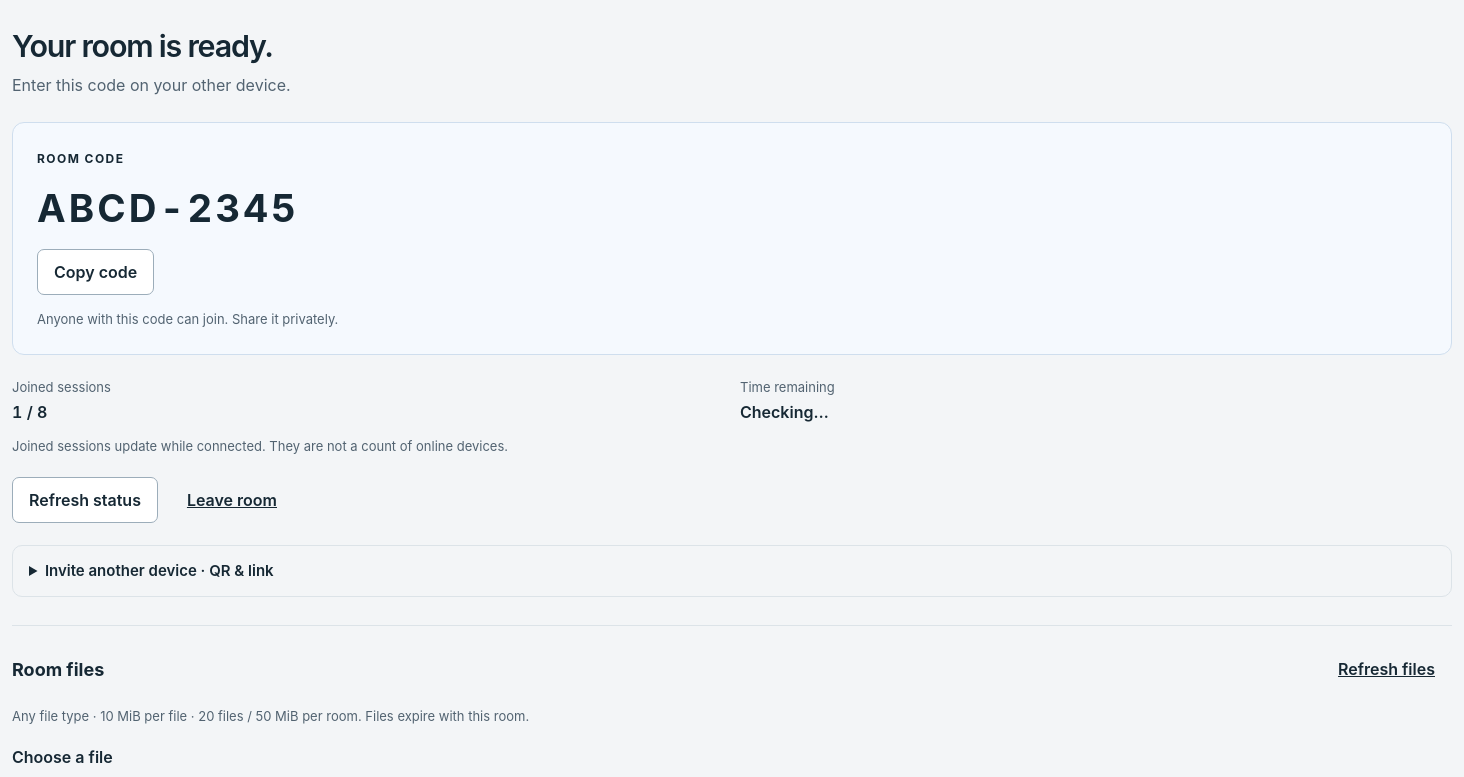
Scenario: restore checks membership under StrictMode; leave clears storage
Expected: the text "1 / 8" is shown, [12, 402, 47, 422]
Click the button "Leave room". click: click(232, 500)
box: [170, 477, 294, 523]
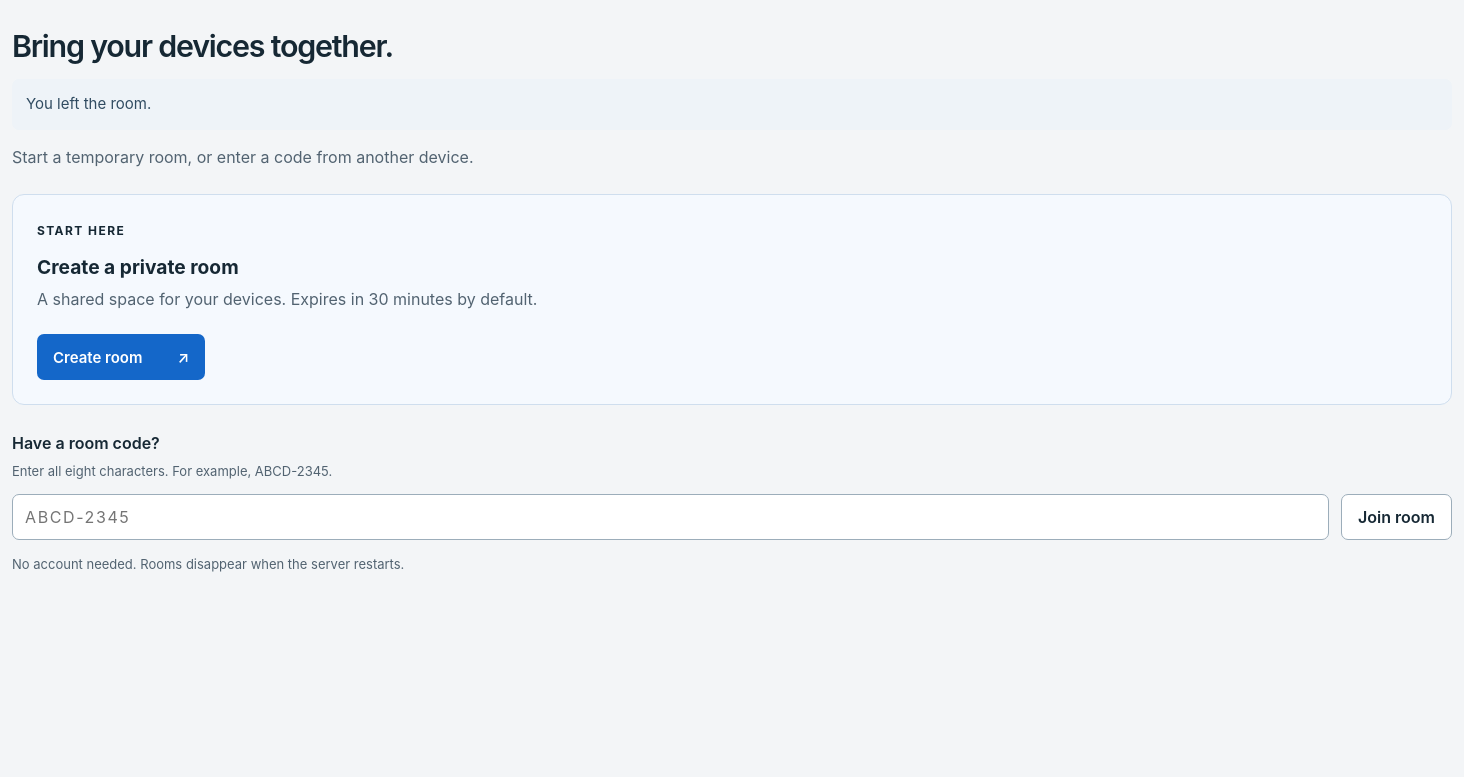
Expected: the button "Create room ↗" is shown, [37, 334, 205, 380]
